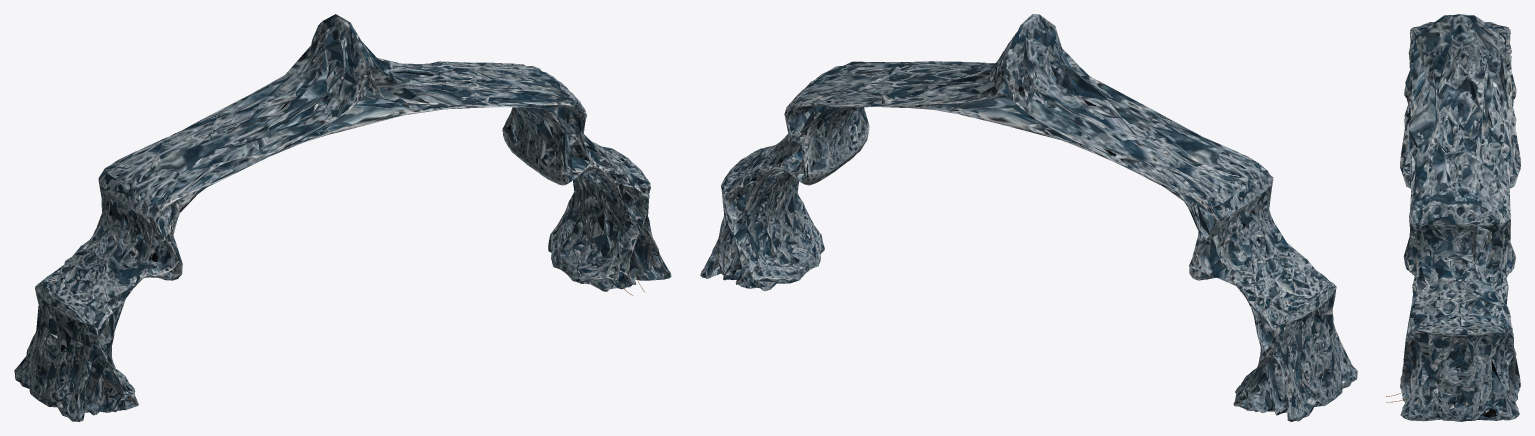
The model's file is terrasa-draft-v5.glb.
3 views of the same model, side by side, from view 1: azimuth 30°, elevation 25°; view 2: azimuth 150°, elevation 25°; view 3: azimuth 270°, elevation 25° (orthographic). The views are drawn at different scales.
Visible parts, largest first — view 1: LOD2_Mineral, LOD0_Mineral, LOD1_Mineral; view 2: LOD2_Mineral, LOD0_Mineral, LOD1_Mineral; view 3: LOD2_Mineral, LOD0_Mineral, LOD1_Mineral.
Boxes of the visible parts, x1,y1,x2,y2 form: LOD2_Mineral: (14, 14, 671, 421); LOD0_Mineral: (14, 17, 671, 421); LOD1_Mineral: (15, 20, 669, 421); LOD2_Mineral: (701, 14, 1357, 421); LOD0_Mineral: (700, 16, 1357, 421); LOD1_Mineral: (701, 21, 1356, 421); LOD2_Mineral: (1400, 15, 1520, 421); LOD0_Mineral: (1400, 14, 1520, 421); LOD1_Mineral: (1400, 22, 1520, 420).
Bounding box in the file's own units: 120 × 58 × 25.66.
Materials: 3 (1 with a texture image).
